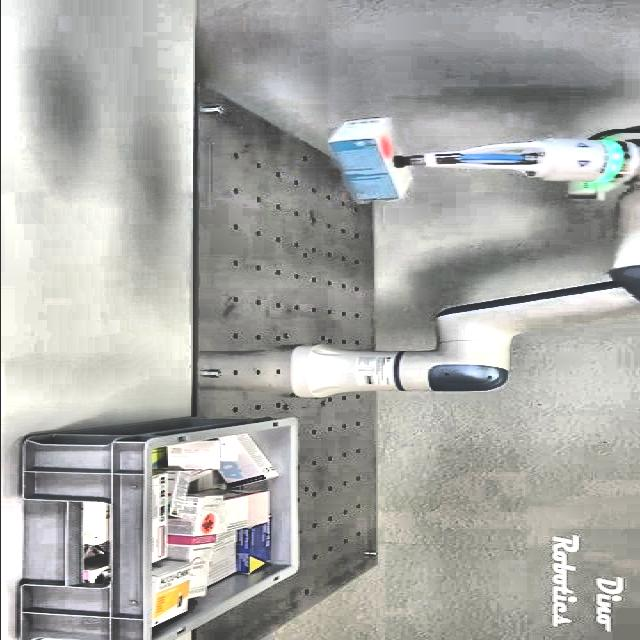robot: (288, 117, 640, 399)
